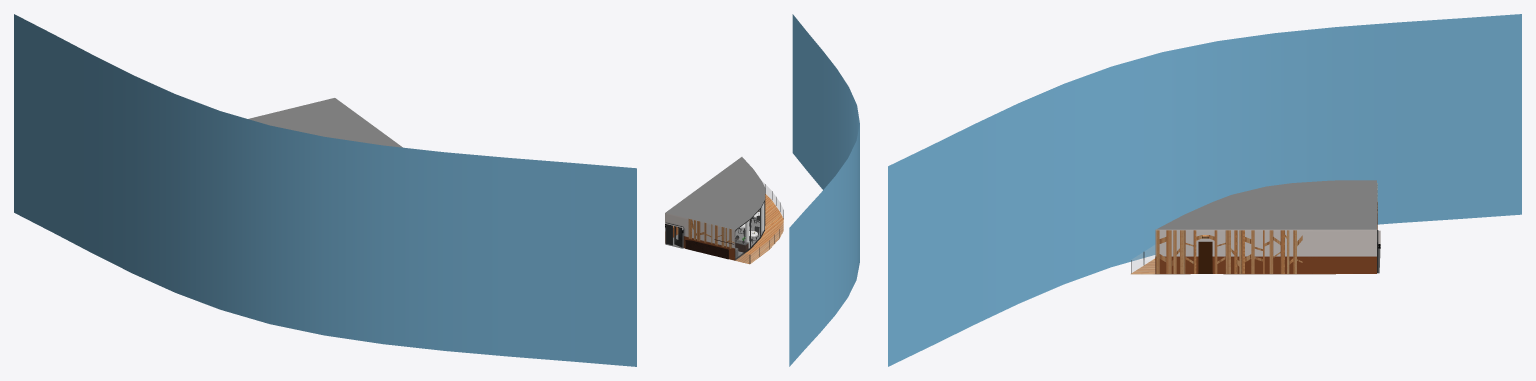
Rendered from lowpoly-restaurant.glb.
3 renders of one model, left to right at view 1: azimuth 30°, elevation 25°; view 2: azimuth 150°, elevation 25°; view 3: azimuth 270°, elevation 25°, orthographic. The views are drawn at different scales.
Visible parts, largest first — view 1: Object_4, Object_10; view 2: Object_4, Object_10, Object_8, Object_14; view 3: Object_4, Object_10, Object_8, Object_14.
Boxes of the visible parts, box(x1,y1,x2,y2) form: Object_4: box(14, 14, 636, 366); Object_10: box(248, 98, 402, 147); Object_4: box(789, 14, 859, 366); Object_10: box(665, 157, 783, 264); Object_8: box(666, 202, 764, 259); Object_14: box(735, 182, 783, 263); Object_4: box(888, 14, 1521, 366); Object_10: box(1131, 180, 1380, 274); Object_8: box(1156, 183, 1378, 273); Object_14: box(1131, 245, 1154, 273).
Size of the model in its own units: 24.35 by 14.97 by 42.83.
Materials: 4 (2 with a texture image).
